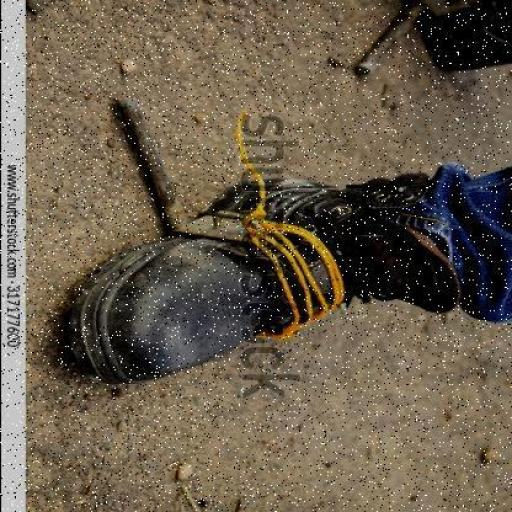safety_shoe: (65, 174, 449, 384)
